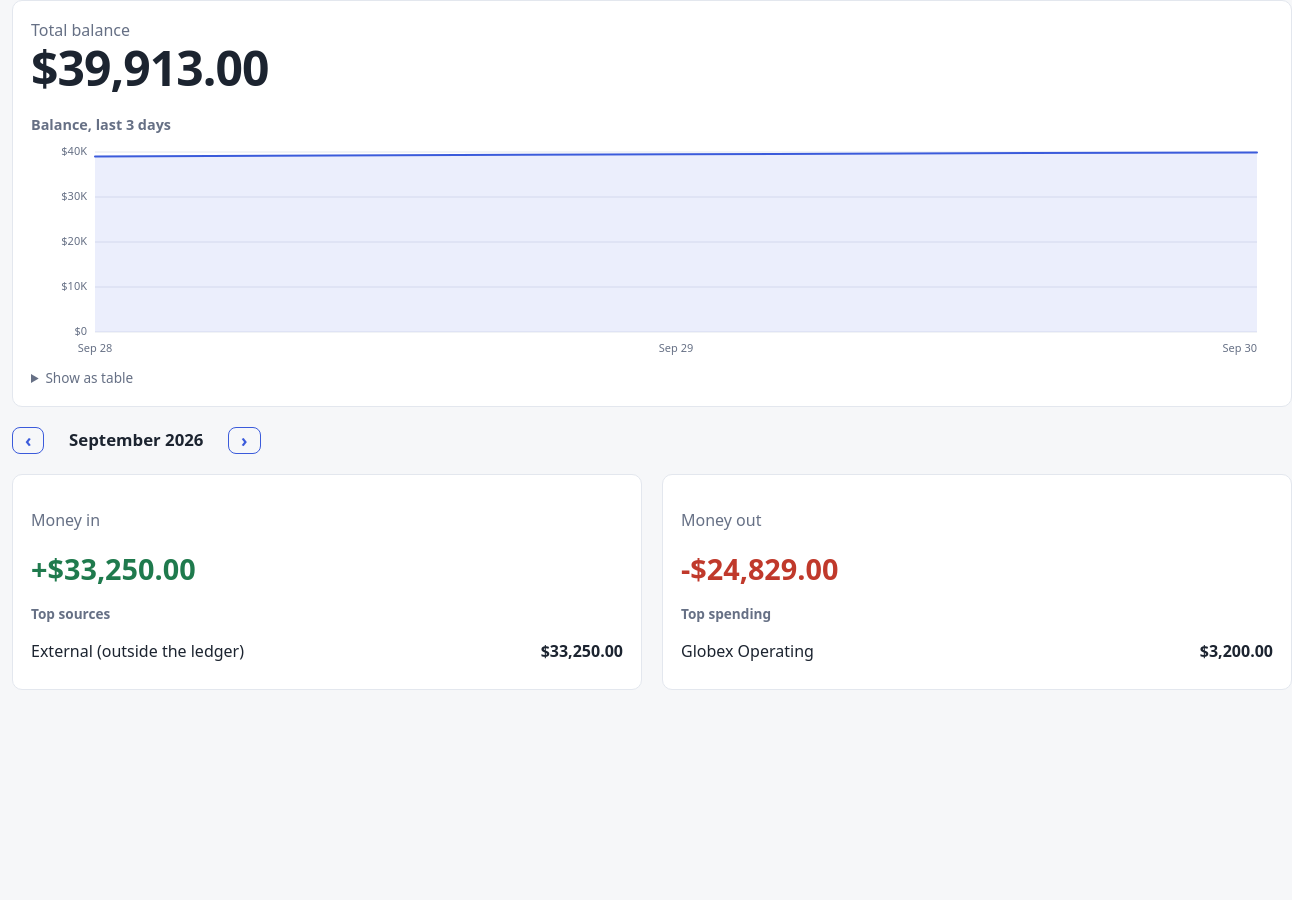
it: DashboardPage › asks for the previous month
Expected: the heading "September 2026" is shown, 69,428 -> 204,451
Click the button named "Previous month" at (28, 440), box 12,427 -> 44,454
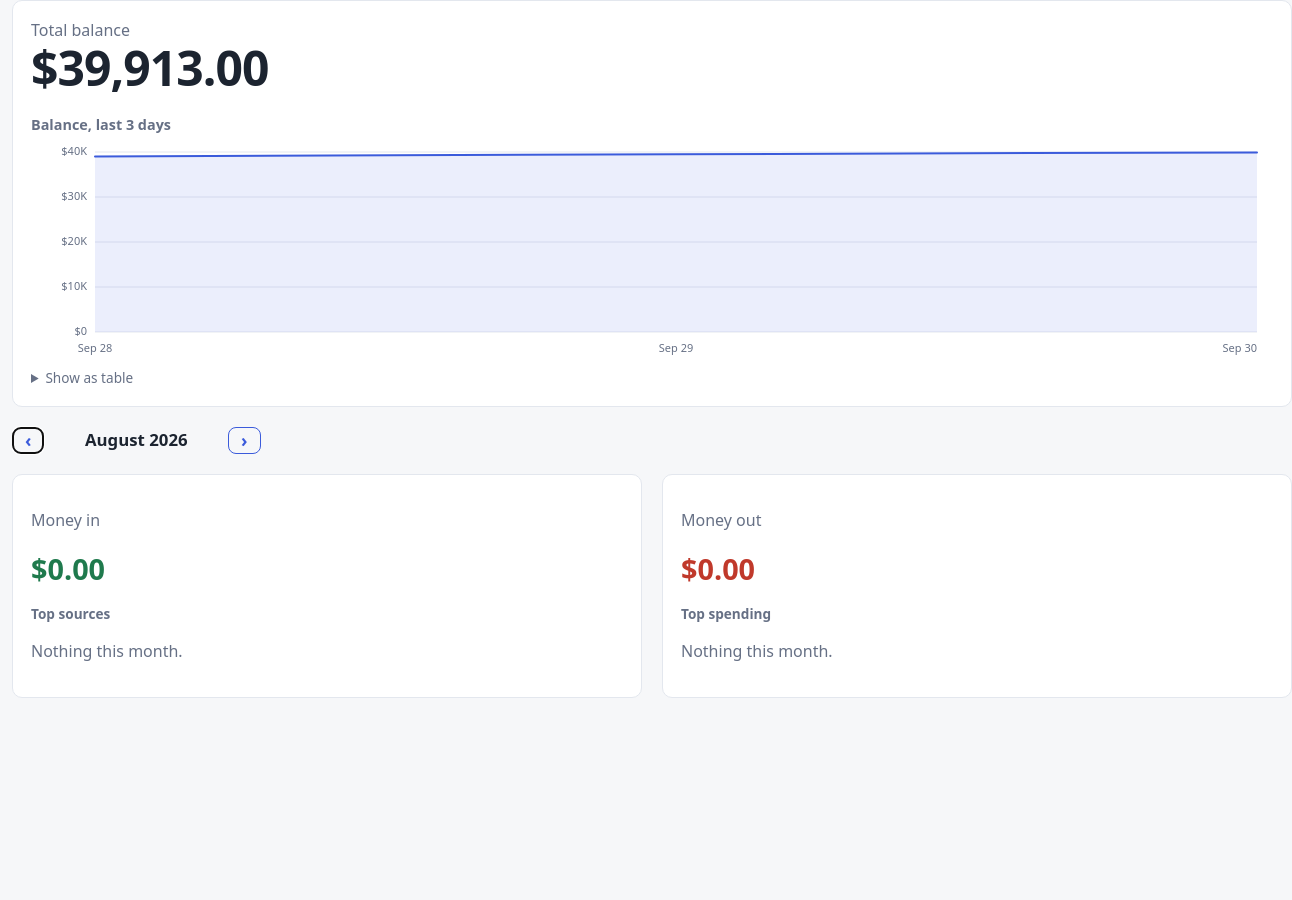
Expected: the heading "August 2026" is shown, 85,428 -> 188,451
Expected: the text "Nothing this month." is shown 2 times, 31,640 -> 183,662; 681,640 -> 833,662
